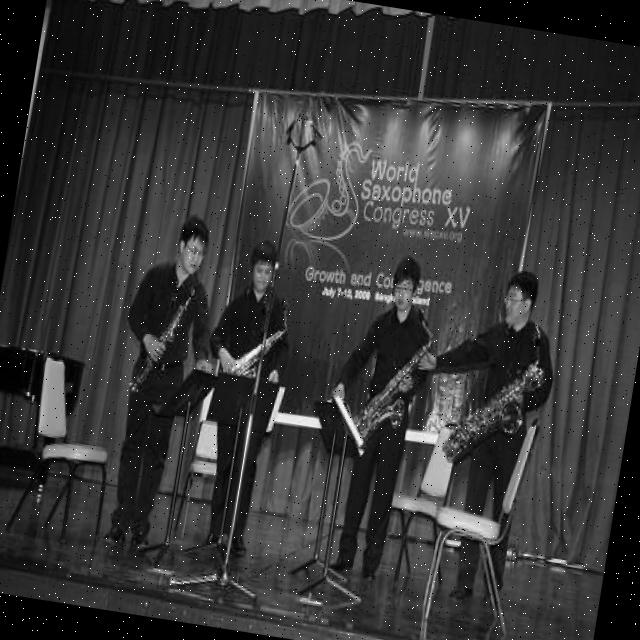saxophone: (438, 310, 556, 474), (342, 302, 448, 456), (127, 270, 200, 400), (218, 288, 297, 390)
